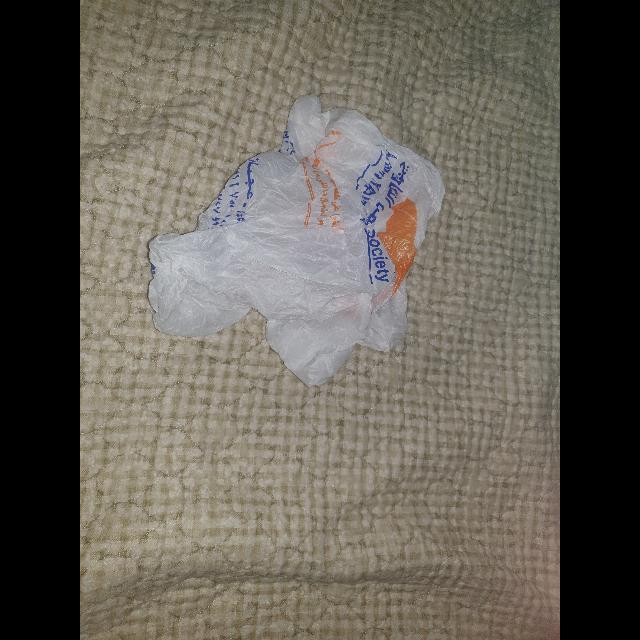plastic_bag: (146, 90, 476, 390)
